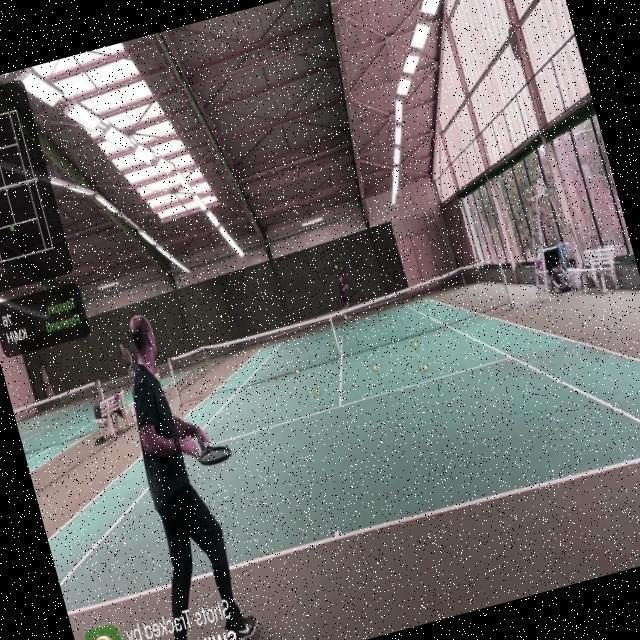court: (12, 242, 640, 616)
net: (164, 264, 517, 402)
player: (81, 299, 285, 640), (332, 270, 358, 320)
